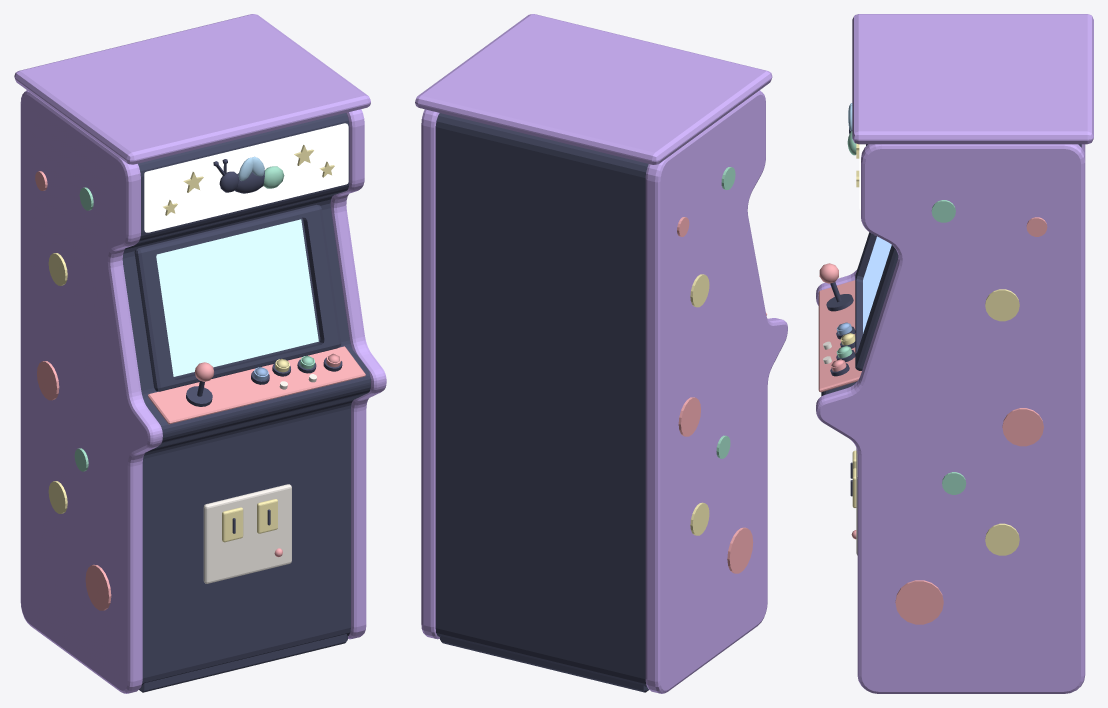
File: fliperama-retro.glb
3 views of the same model, side by side, from view 1: azimuth 30°, elevation 25°; view 2: azimuth 150°, elevation 25°; view 3: azimuth 270°, elevation 25° (orthographic). The views are drawn at different scales.
Parts seen in each view (by area): view 1: fliperama, tela; view 2: fliperama; view 3: fliperama, tela.
Part boxes in pixels (x1,y1,x2,y2): fliperama: [14, 14, 386, 693]; tela: [156, 219, 318, 376]; fliperama: [415, 14, 787, 693]; fliperama: [816, 14, 1093, 693]; tela: [863, 236, 891, 333].
Size of the model in its own units: 0.84 by 1.8 by 0.805.
